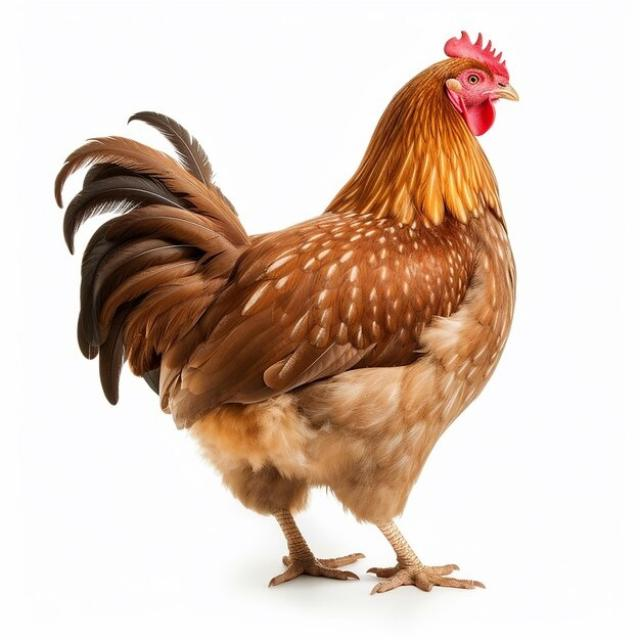Chicken: (54, 27, 521, 595)
